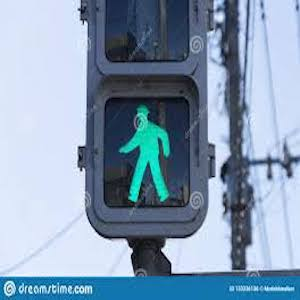green: (112, 103, 178, 203)
